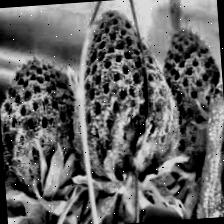Powdery Mildew Fruit: (64, 4, 184, 206), (0, 52, 95, 221), (157, 28, 224, 174)
